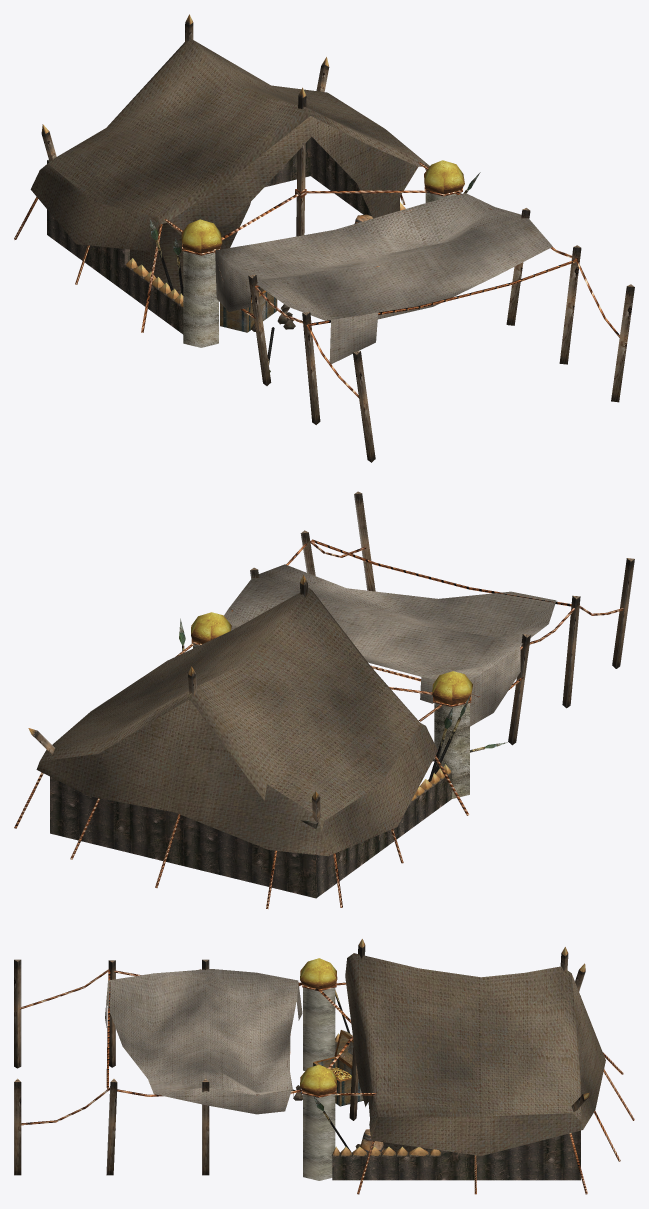
The model's file is building_mercenary_post.glb.
3 renders of one model, top to bottom at view 1: azimuth 30°, elevation 25°; view 2: azimuth 150°, elevation 25°; view 3: azimuth 270°, elevation 25°, orthographic. The views are drawn at different scales.
Parts seen in each view (by area): view 1: building_mercenary_post; view 2: building_mercenary_post; view 3: building_mercenary_post.
Part boxes in pixels (bbox=[...]): building_mercenary_post: bbox=[14, 14, 634, 462]; building_mercenary_post: bbox=[14, 491, 634, 908]; building_mercenary_post: bbox=[14, 939, 634, 1194].
Bounding box in the file's own units: 9.64 × 5.76 × 17.43.
Materials: 11 (11 with a texture image).
